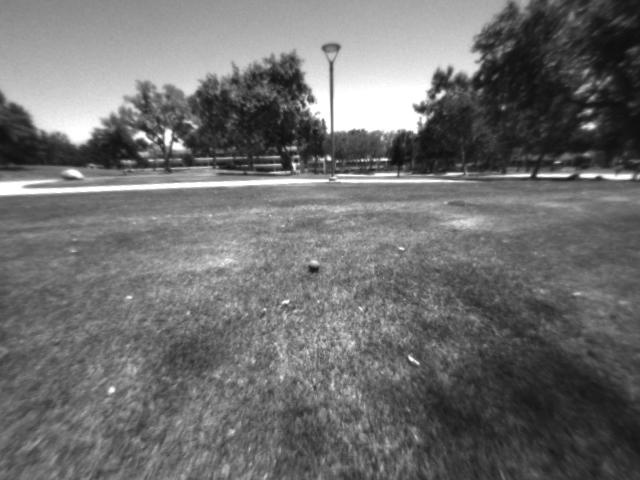dogtoy: (295, 248, 331, 281)
